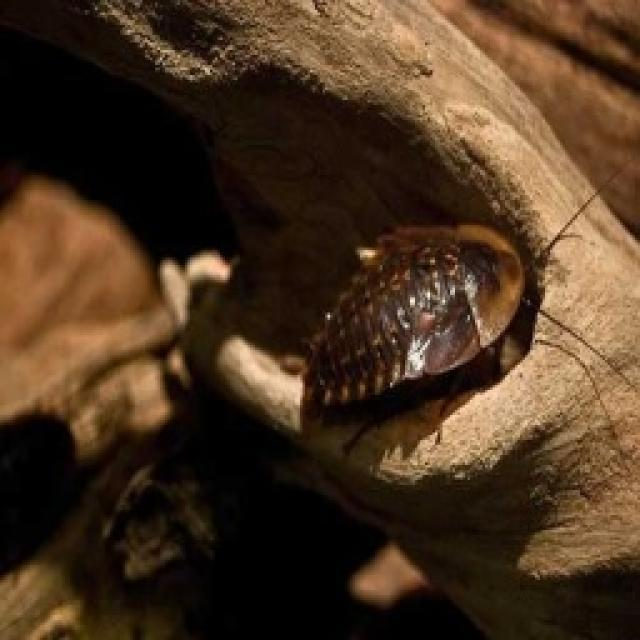cockroach: (308, 192, 572, 458)
